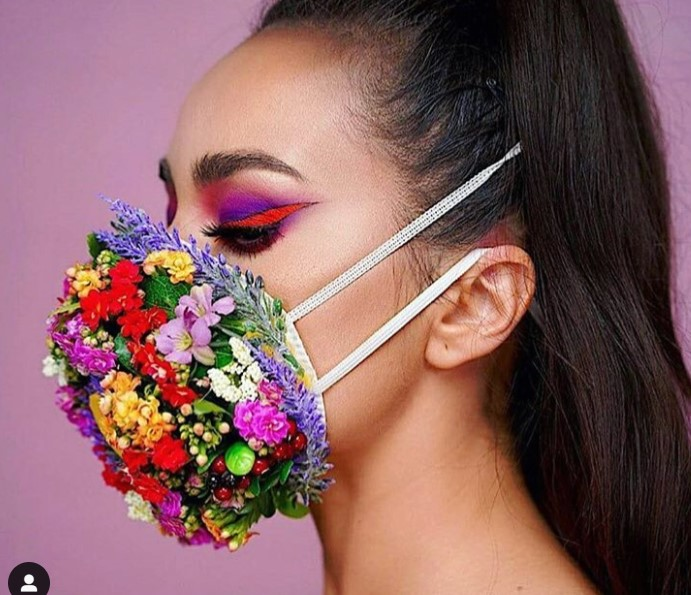face_with_mask: (38, 6, 549, 558)
